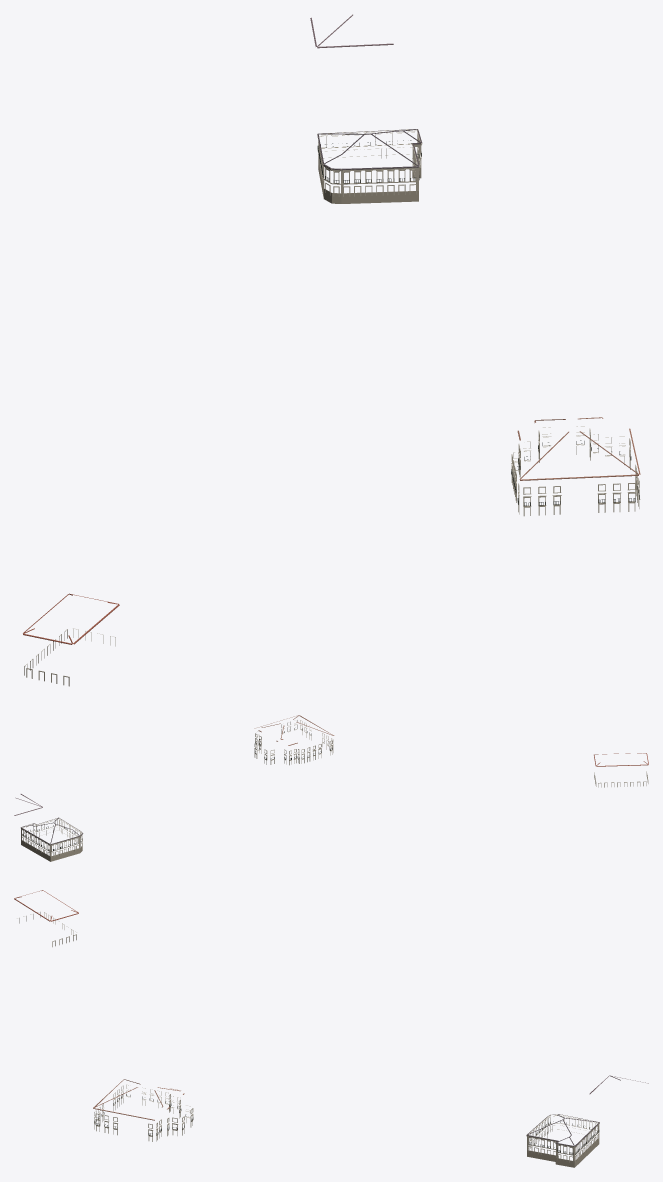
The picture shows the model from 3 angles, top to bottom: view 1: azimuth 30°, elevation 25°; view 2: azimuth 150°, elevation 25°; view 3: azimuth 270°, elevation 25°; orthographic projection. The views are drawn at different scales.
Visible parts, largest first — view 1: detail; view 2: detail; view 3: detail.
Part boxes in pixels (bbox=[...]): detail: bbox=[23, 14, 640, 686]; detail: bbox=[14, 715, 648, 861]; detail: bbox=[14, 890, 648, 1167].
Size of the model in its own units: 230 by 39.91 by 248.
